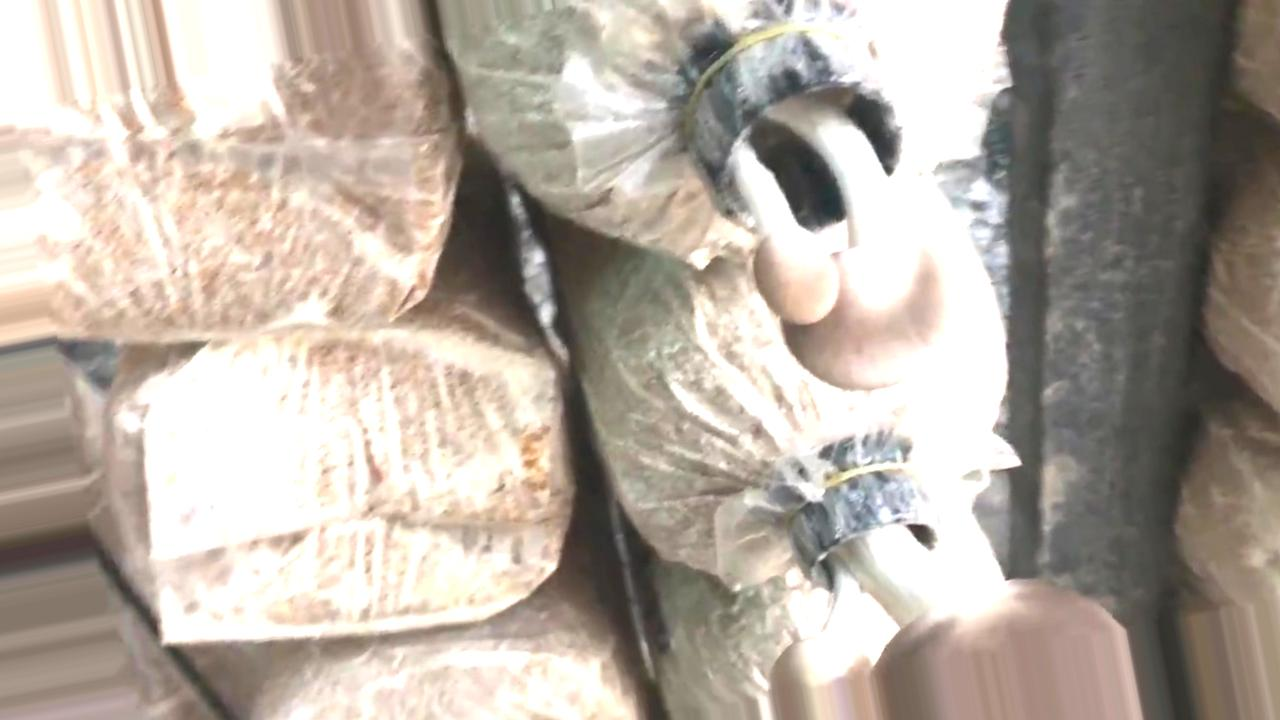nam: (769, 456, 1141, 720), (686, 19, 942, 392)
